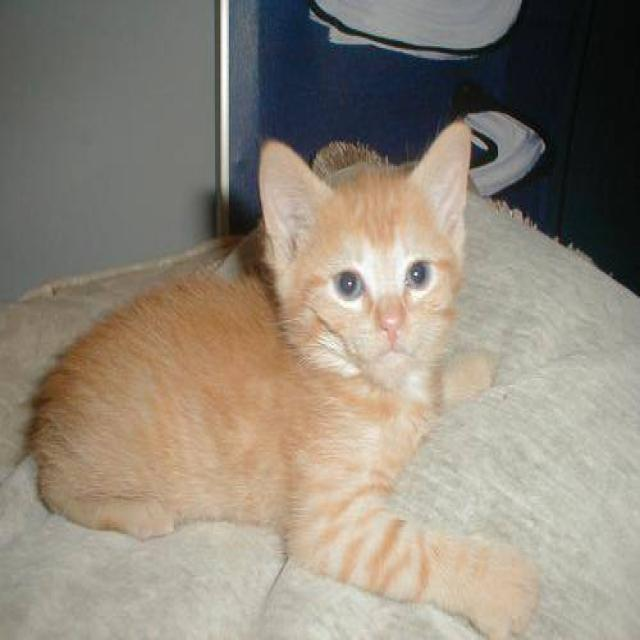cat: (24, 116, 542, 638)
